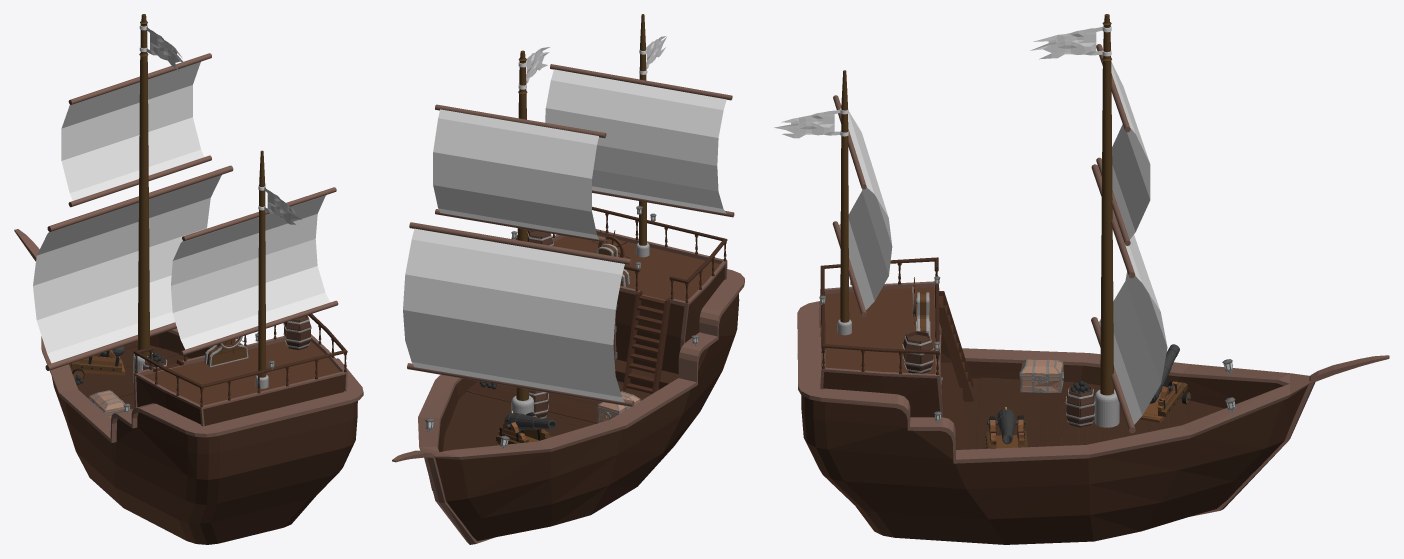
The model's file is boat.dae.
3 renders of one model, left to right at view 1: azimuth 30°, elevation 25°; view 2: azimuth 150°, elevation 25°; view 3: azimuth 270°, elevation 25°, orthographic. The views are drawn at different scales.
Parts seen in each view (by area): view 1: pirate ship; view 2: pirate ship; view 3: pirate ship.
Part boxes in pixels (x1=…): pirate ship: x1=14, y1=14, x2=363, y2=544; pirate ship: x1=392, y1=14, x2=744, y2=544; pirate ship: x1=774, y1=14, x2=1389, y2=544.
Bounding box in the file's own units: 4.24 × 9.87 × 9.17.
